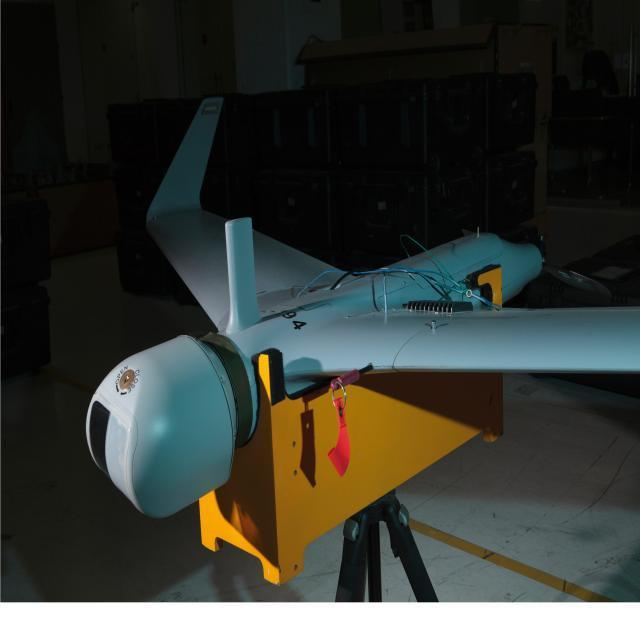iha: (75, 91, 640, 523)
